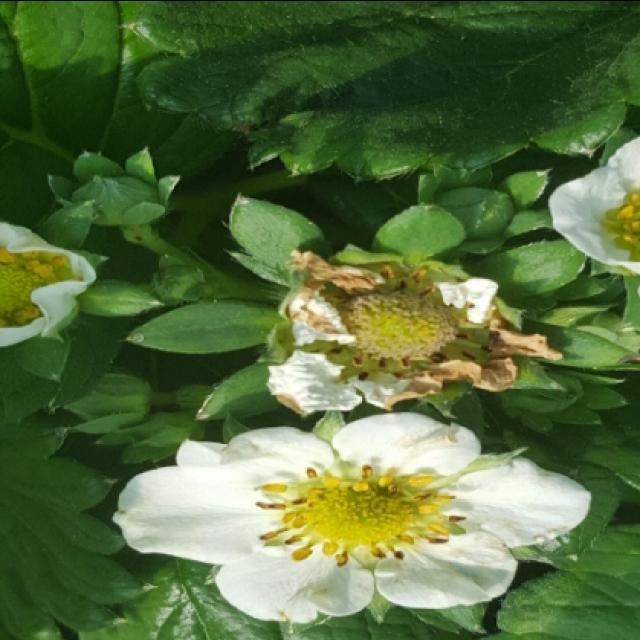Blossom Blight: (252, 458, 470, 572), (306, 261, 497, 380)
